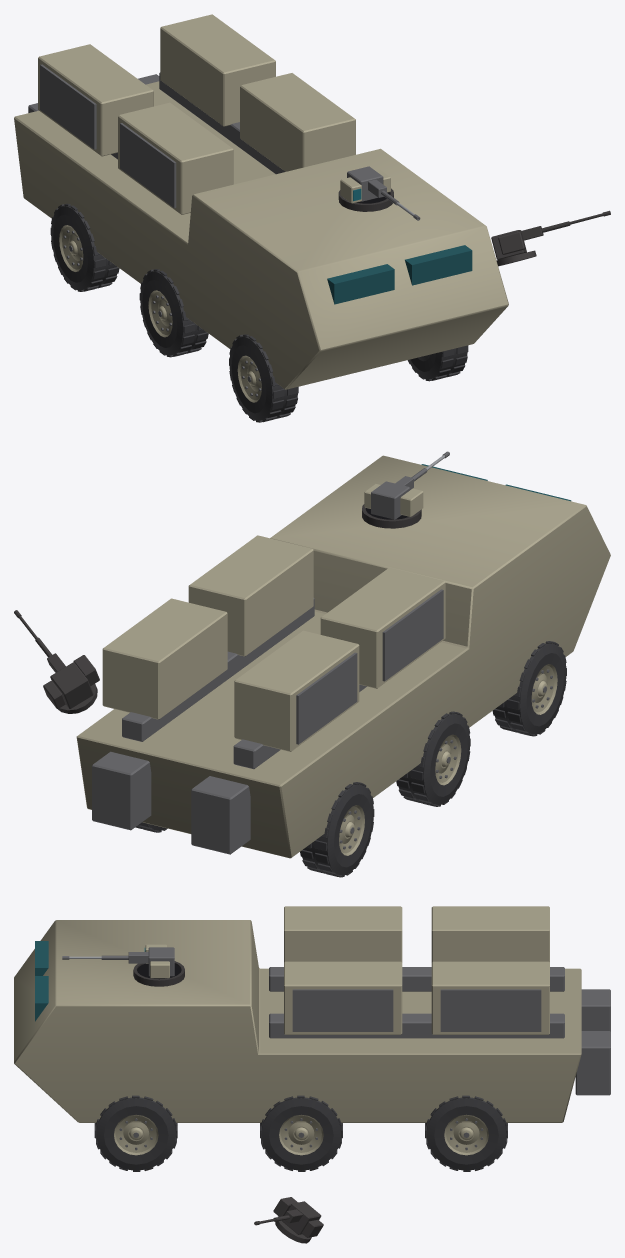
Rendered from mineLayer__type_94_amphibious.glb.
The picture shows the model from 3 angles, top to bottom: view 1: azimuth 30°, elevation 25°; view 2: azimuth 150°, elevation 25°; view 3: azimuth 270°, elevation 25°; orthographic projection. The views are drawn at different scales.
Visible parts, largest first — view 1: Hull_Mesh, Wheel_L2_Mesh, Wheel_L1_Mesh, Wheel_L0_Mesh, Wreck, Wheel_R2_Mesh, Turret_Mesh; view 2: Hull_Mesh, Wheel_L0_Mesh, Wheel_L1_Mesh, Wheel_L2_Mesh, Wreck, Turret_Mesh; view 3: Hull_Mesh, Wheel_R2_Mesh, Wheel_R0_Mesh, Wheel_R1_Mesh, Wreck, Turret_Mesh, Gun_Mesh.
Boxes of the visible parts, x1=… form: Hull_Mesh: x1=14, y1=14, x2=508, y2=389; Wheel_L2_Mesh: x1=229, y1=334, x2=298, y2=422; Wheel_L1_Mesh: x1=139, y1=269, x2=208, y2=357; Wheel_L0_Mesh: x1=50, y1=203, x2=119, y2=291; Wreck: x1=71, y1=188, x2=610, y2=380; Wheel_R2_Mesh: x1=407, y1=345, x2=468, y2=381; Turret_Mesh: x1=340, y1=166, x2=390, y2=203; Hull_Mesh: x1=76, y1=455, x2=610, y2=858; Wheel_L0_Mesh: x1=300, y1=782, x2=374, y2=877; Wheel_L1_Mesh: x1=396, y1=711, x2=470, y2=806; Wheel_L2_Mesh: x1=492, y1=641, x2=566, y2=736; Wreck: x1=14, y1=504, x2=543, y2=877; Turret_Mesh: x1=364, y1=481, x2=423, y2=519; Hull_Mesh: x1=14, y1=906, x2=610, y2=1122; Wheel_R2_Mesh: x1=94, y1=1095, x2=177, y2=1171; Wheel_R0_Mesh: x1=425, y1=1095, x2=507, y2=1171; Wheel_R1_Mesh: x1=260, y1=1095, x2=342, y2=1171; Wreck: x1=125, y1=961, x2=482, y2=1243; Turret_Mesh: x1=144, y1=944, x2=174, y2=978; Gun_Mesh: x1=62, y1=952, x2=148, y2=963.
Size of what is drawn, in the model's own units: 5.94 by 2.72 by 7.77.
